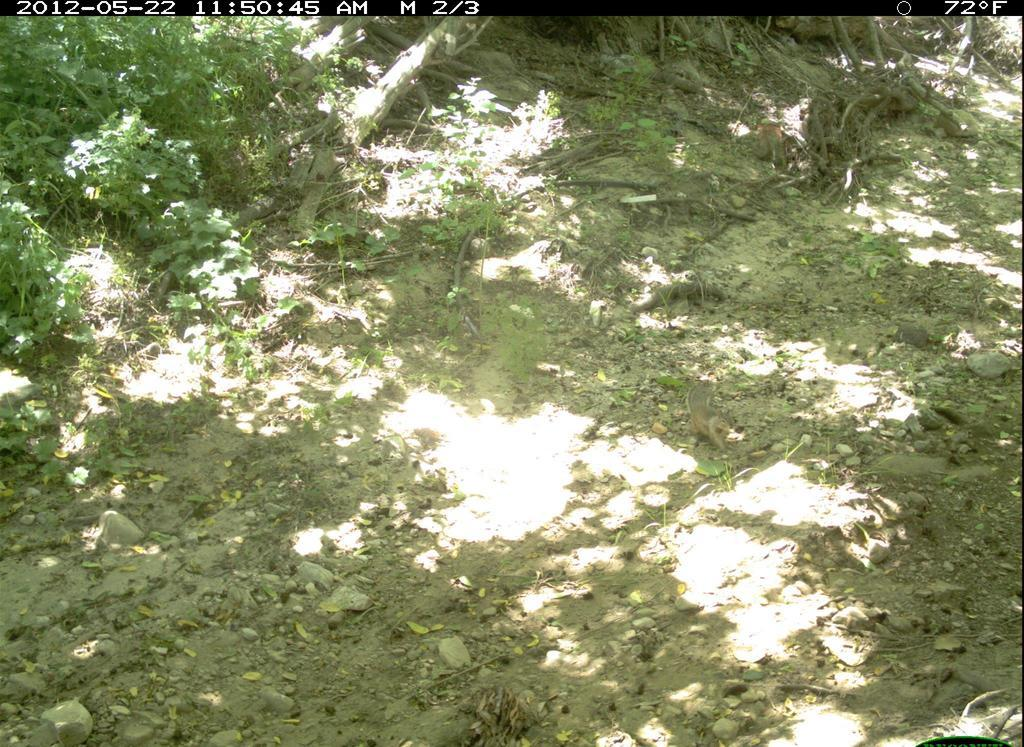squirrel: (678, 376, 740, 455)
